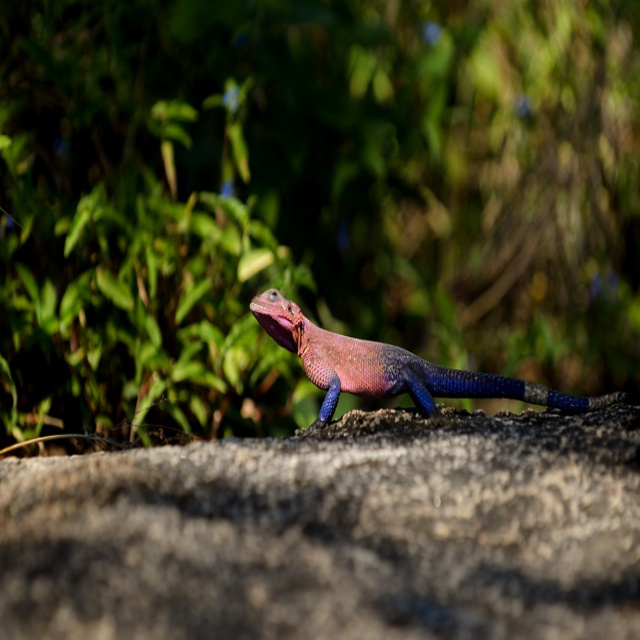Lizard: (249, 287, 625, 431)
